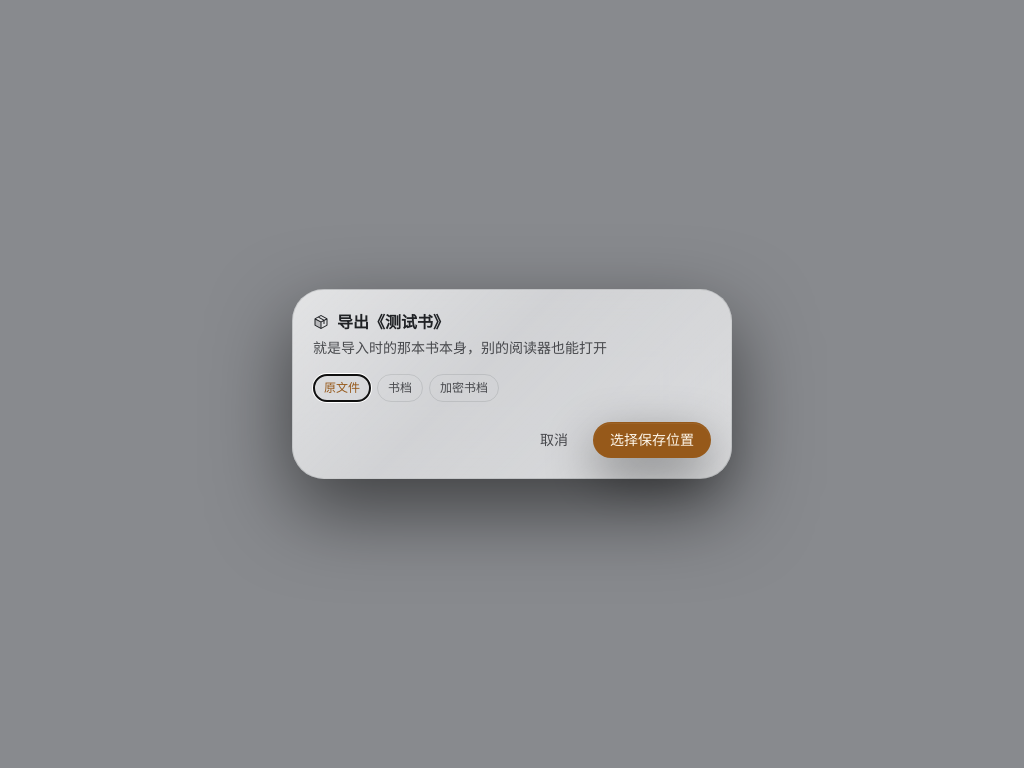
Test: the export dialog › will not export an encrypted pack without a password
This screenshot has width=1024, height=768.
Click the button "加密书档": (464, 388) [429,374,499,402]
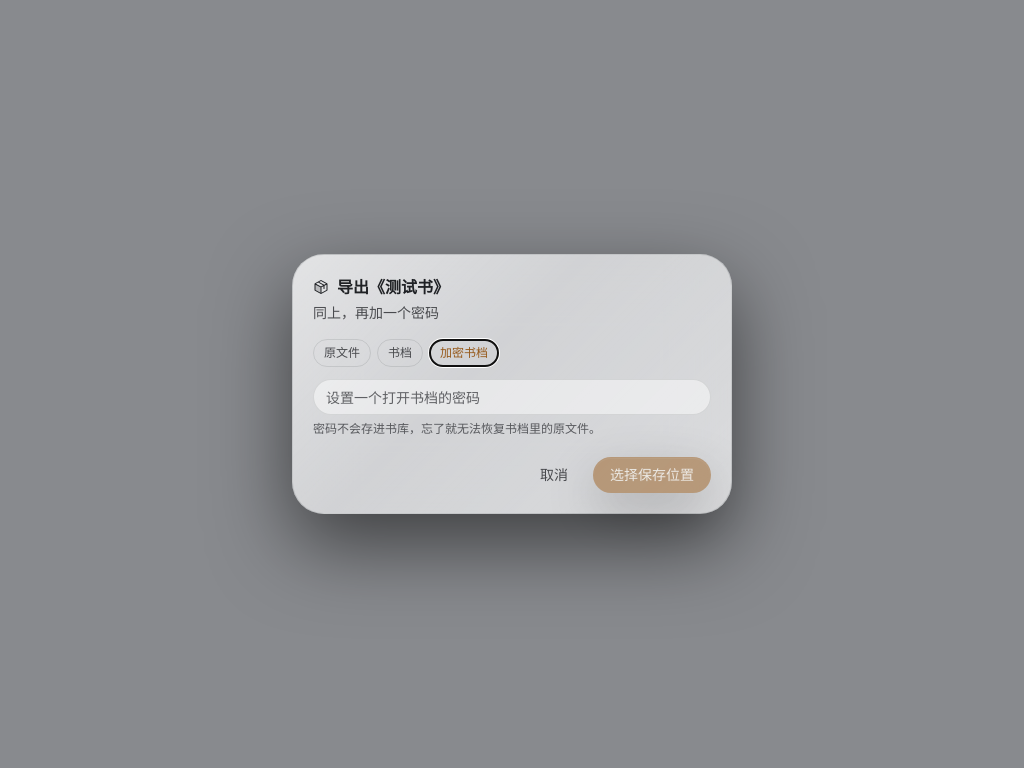
Check: the button "选择保存位置" is disabled, box [593,457,711,493]
In the password field named "书档密码": (512, 397) [313,379,711,415], type "pw"
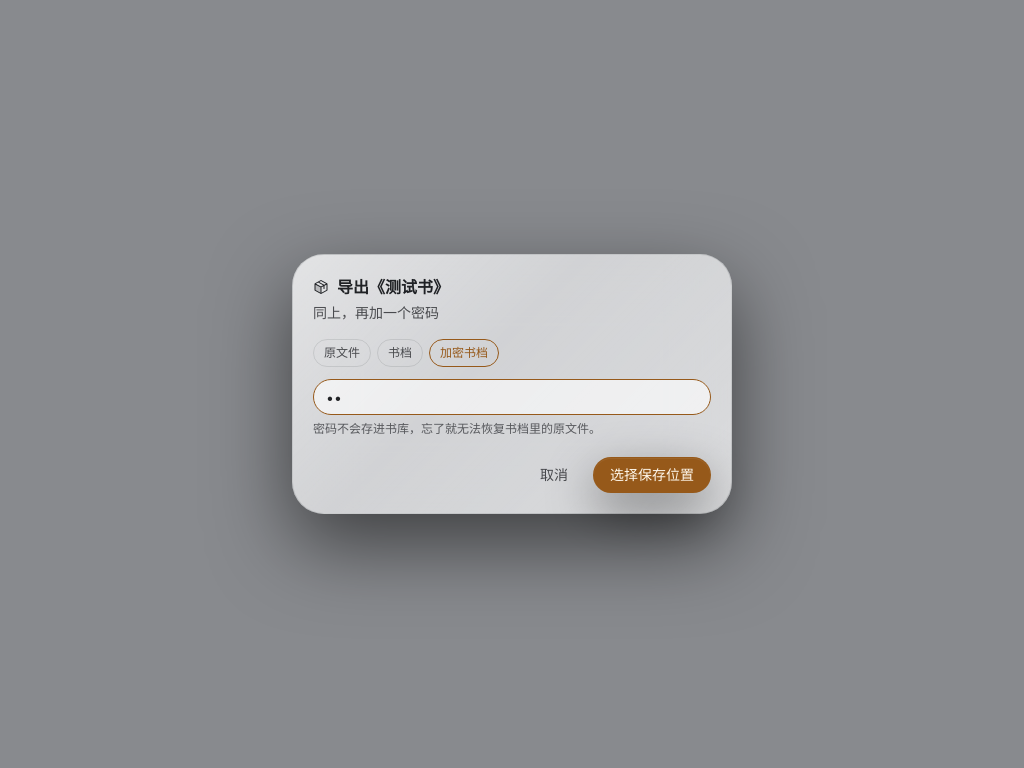
Check: the button "选择保存位置" is enabled, box [593,457,711,493]
